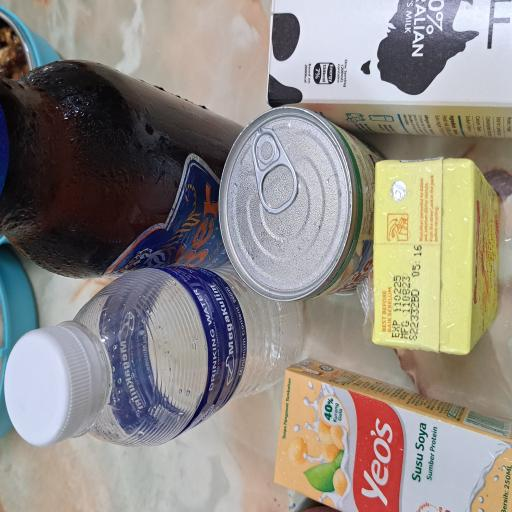can: (157, 291, 303, 512)
drink carton: (0, 363, 115, 512), (278, 354, 384, 512)
glass bottle: (174, 0, 339, 331)
plastic bottle: (48, 96, 184, 408)
plastic bottle cap: (48, 5, 140, 121)
pop tab: (222, 336, 289, 398)
